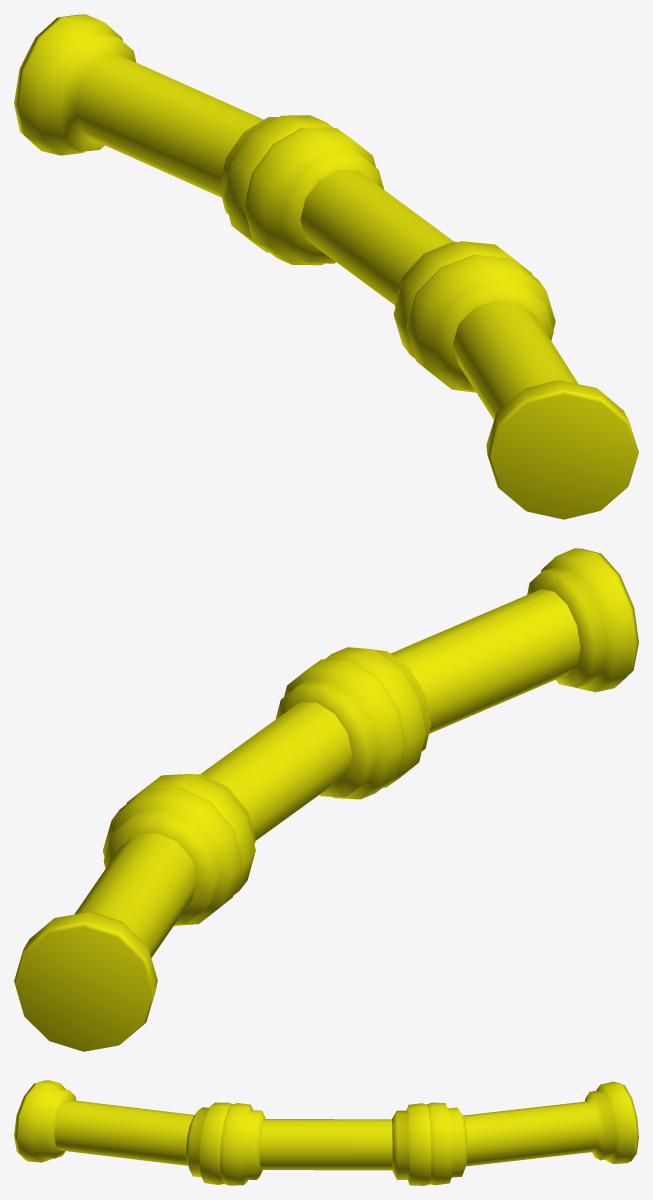
File: Rail_Rock_02_Bend_02.fbx
The picture shows the model from 3 angles, top to bottom: view 1: azimuth 30°, elevation 25°; view 2: azimuth 150°, elevation 25°; view 3: azimuth 270°, elevation 25°; orthographic projection. The views are drawn at different scales.
Visible parts, largest first — view 1: Rail_Rock_02_Bend_02; view 2: Rail_Rock_02_Bend_02; view 3: Rail_Rock_02_Bend_02.
Boxes of the visible parts, box(x1,y1,x2,y2) form: Rail_Rock_02_Bend_02: box(14, 14, 638, 519); Rail_Rock_02_Bend_02: box(14, 548, 638, 1051); Rail_Rock_02_Bend_02: box(14, 1080, 638, 1185).
Bounding box in the file's own units: 38.87 × 24.86 × 183.
